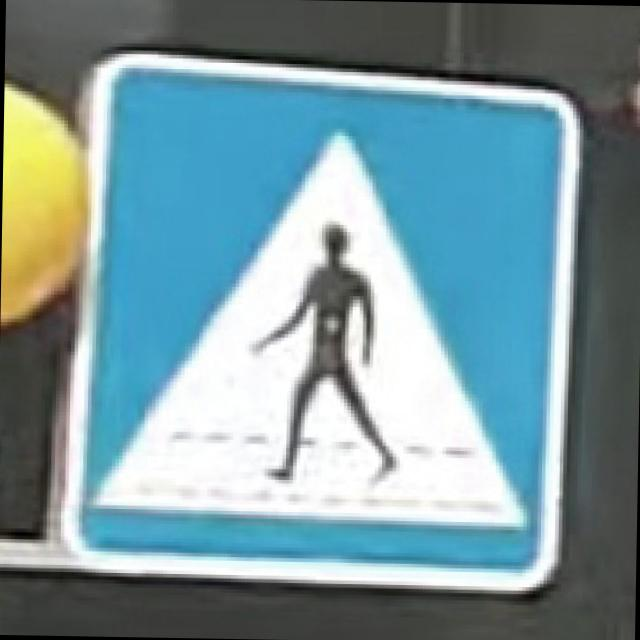zebracrossing_sign: (68, 50, 582, 578)
